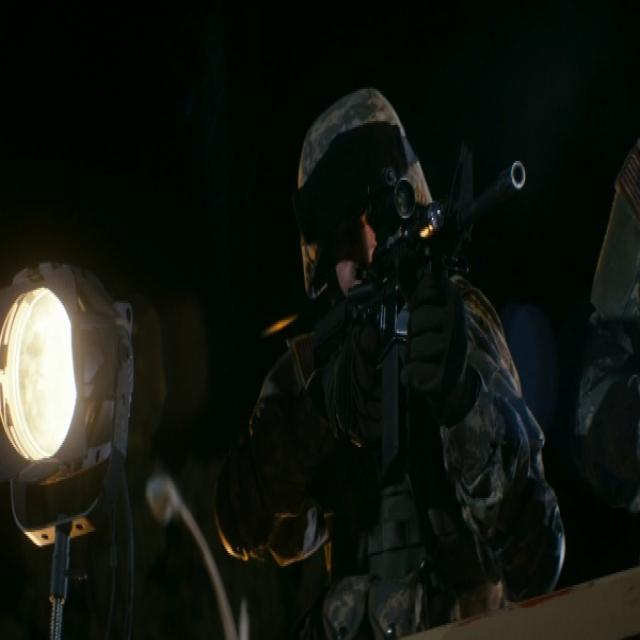rifle: (274, 154, 537, 466)
